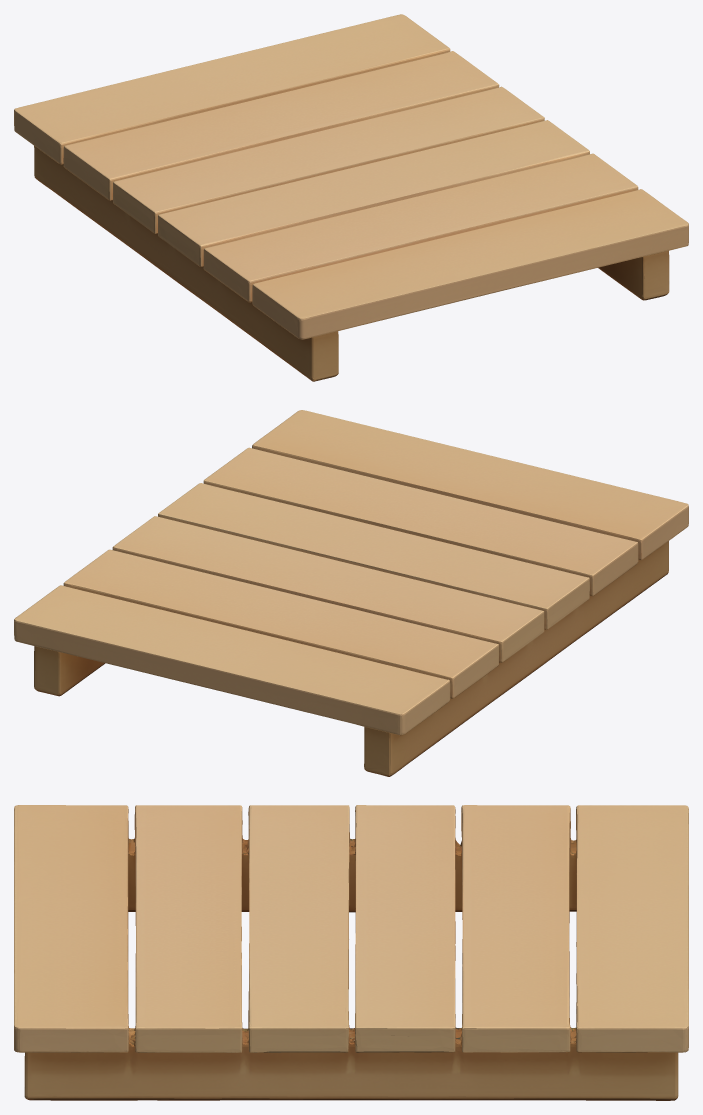
File: bridge.fbx
3 views of the same model, one above another, from view 1: azimuth 30°, elevation 25°; view 2: azimuth 150°, elevation 25°; view 3: azimuth 270°, elevation 25° (orthographic). The views are drawn at different scales.
Visible parts, largest first — view 1: geometry_0; view 2: geometry_0; view 3: geometry_0.
Part boxes in pixels (x1,y1,x2,y2): geometry_0: (14, 14, 688, 381); geometry_0: (14, 410, 688, 776); geometry_0: (14, 805, 688, 1100).
Bounding box in the file's own units: 0.7837 × 0.1379 × 1.
Materials: 1 (1 with a texture image).
